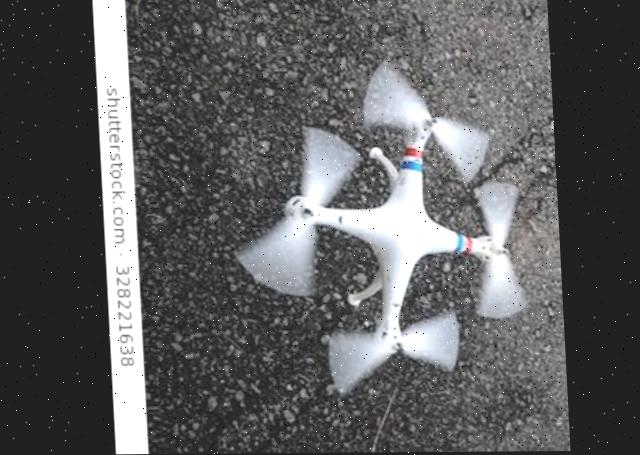drone: (214, 19, 555, 420)
